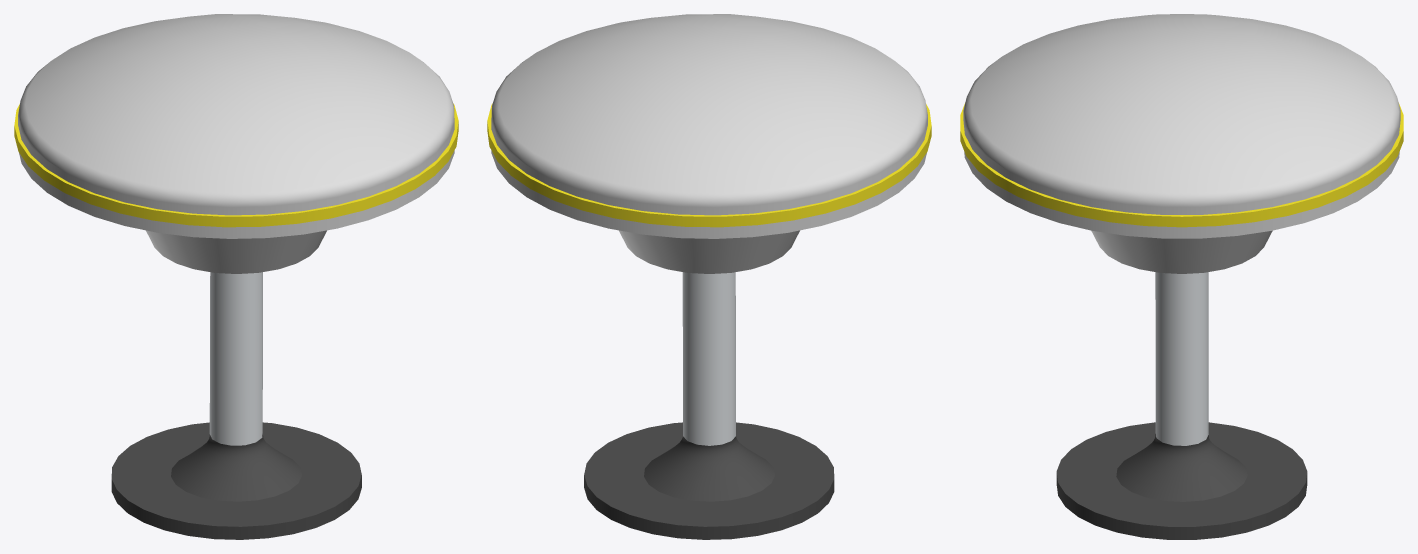
File: GNSS Antenna.fbx
3 renders of one model, left to right at view 1: azimuth 30°, elevation 25°; view 2: azimuth 150°, elevation 25°; view 3: azimuth 270°, elevation 25°, orthographic.
Parts seen in each view (by area): view 1: Imported1; view 2: Imported1; view 3: Imported1.
Part boxes in pixels (x1,y1,x2,y2): Imported1: [14, 14, 458, 539]; Imported1: [487, 14, 931, 539]; Imported1: [960, 14, 1403, 539].
Bounding box in the file's own units: 6.06 × 6.48 × 6.04.
